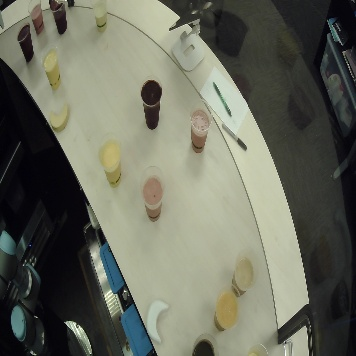full_cup: (226, 244, 259, 297), (211, 282, 244, 335), (97, 126, 125, 188), (139, 73, 166, 131), (186, 98, 213, 156), (140, 165, 167, 223), (39, 45, 66, 91), (14, 21, 36, 69), (189, 327, 218, 356), (24, 1, 46, 34), (48, 1, 70, 34), (89, 1, 111, 34)
puck: (142, 295, 177, 346), (47, 98, 74, 139)
